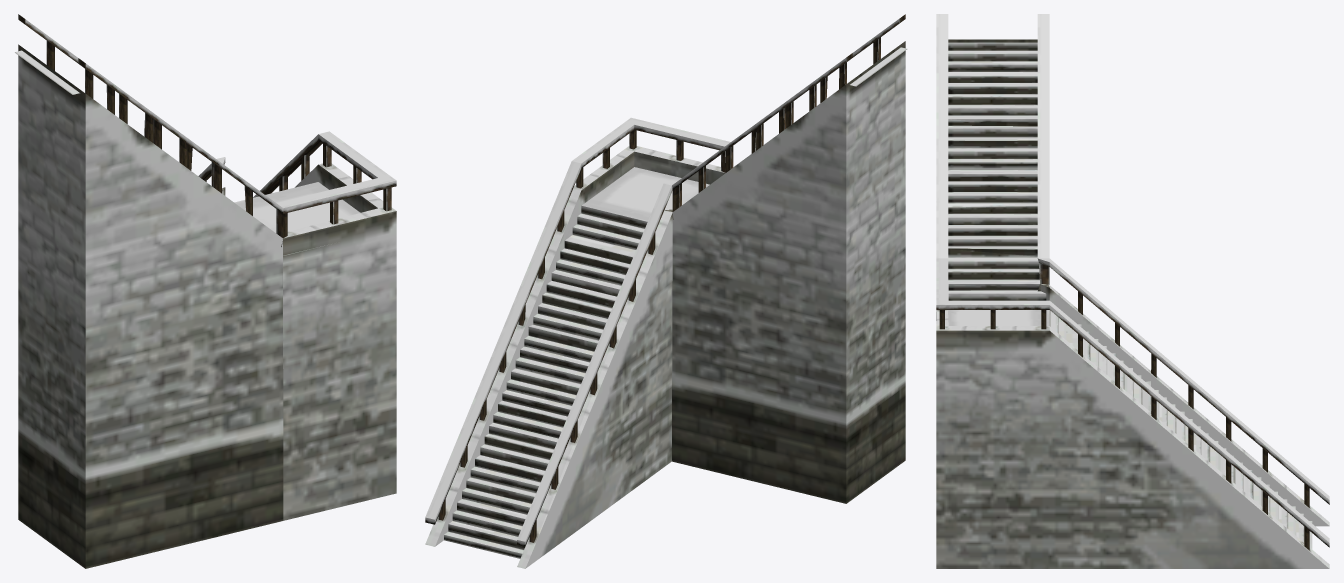
File: general_obj_watchtower02.fbx
3 renders of one model, left to right at view 1: azimuth 30°, elevation 25°; view 2: azimuth 150°, elevation 25°; view 3: azimuth 270°, elevation 25°, orthographic. The views are drawn at different scales.
Parts seen in each view (by area): view 1: general_obj_watchtower02; view 2: general_obj_watchtower02; view 3: general_obj_watchtower02.
Boxes of the visible parts, x1,y1,x2,y2 form: general_obj_watchtower02: (15,14,396,568); general_obj_watchtower02: (425,14,907,568); general_obj_watchtower02: (936,14,1329,568).
Size of the model in its own units: 7.99 by 12.12 by 10.12.
